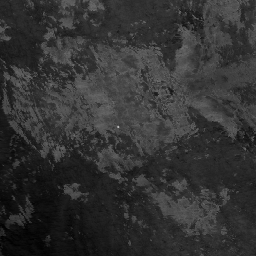Target: (116, 124, 122, 130)
